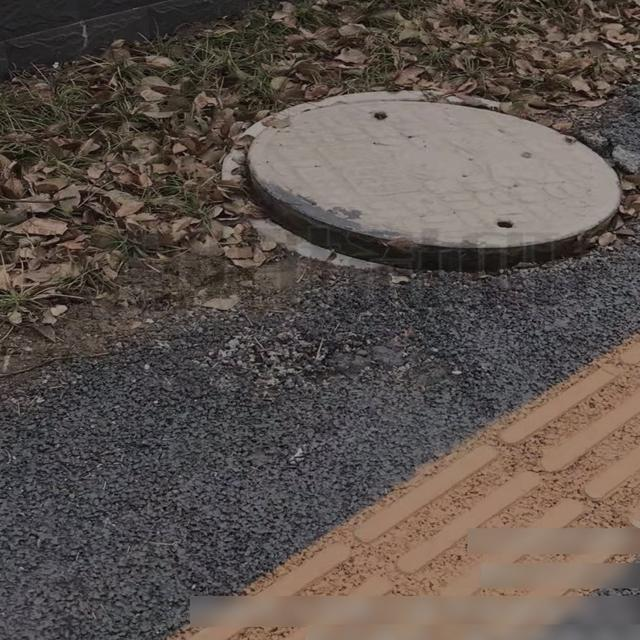uncovered: (221, 86, 637, 265)
